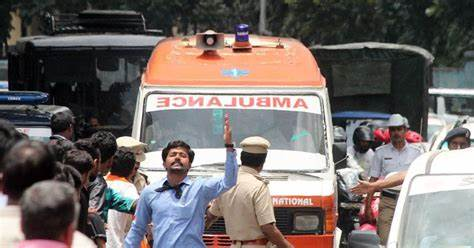ambulance: (128, 25, 343, 248)
